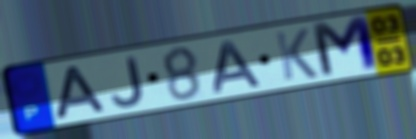8: (161, 46, 204, 104)
A: (53, 64, 110, 122), (212, 38, 265, 96)
J: (110, 54, 147, 109)
K: (272, 26, 321, 83)
M: (308, 12, 384, 81)
